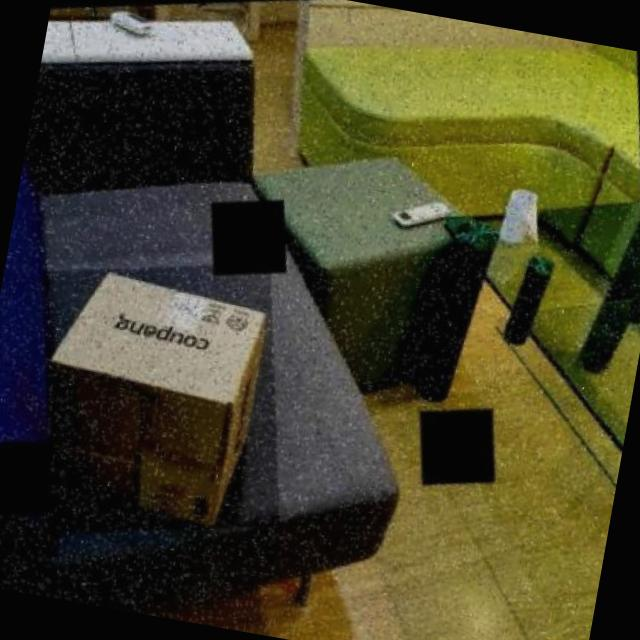box: (0, 223, 323, 571)
